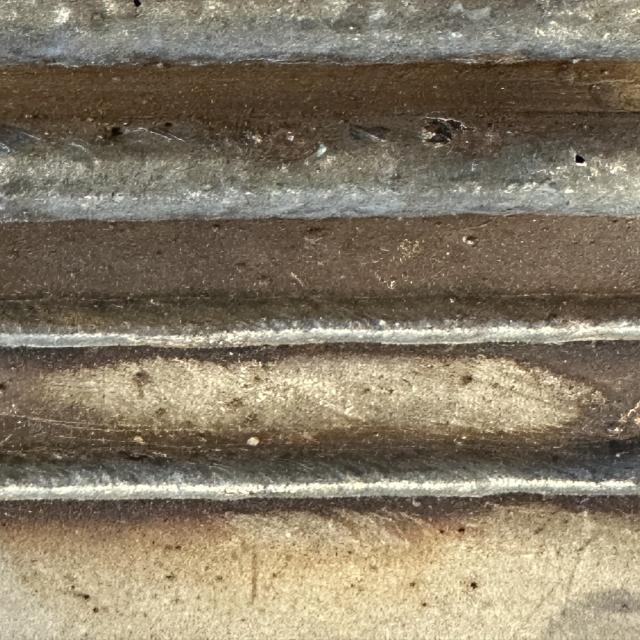Spatters: (427, 134, 450, 143), (108, 69, 122, 82), (315, 142, 327, 156), (573, 154, 587, 165), (462, 235, 477, 245), (247, 436, 260, 446), (460, 375, 473, 385), (0, 382, 8, 394), (20, 114, 38, 119), (287, 132, 295, 142), (470, 581, 478, 590), (387, 280, 395, 289), (155, 62, 165, 69), (470, 581, 478, 589), (615, 451, 623, 458), (450, 296, 458, 302), (82, 594, 90, 600), (438, 529, 445, 534), (487, 121, 493, 126), (500, 84, 505, 89)
